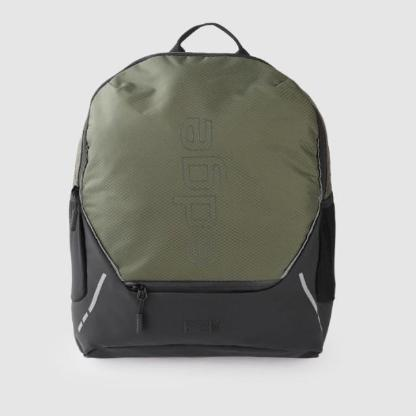bag: (60, 34, 341, 363)
